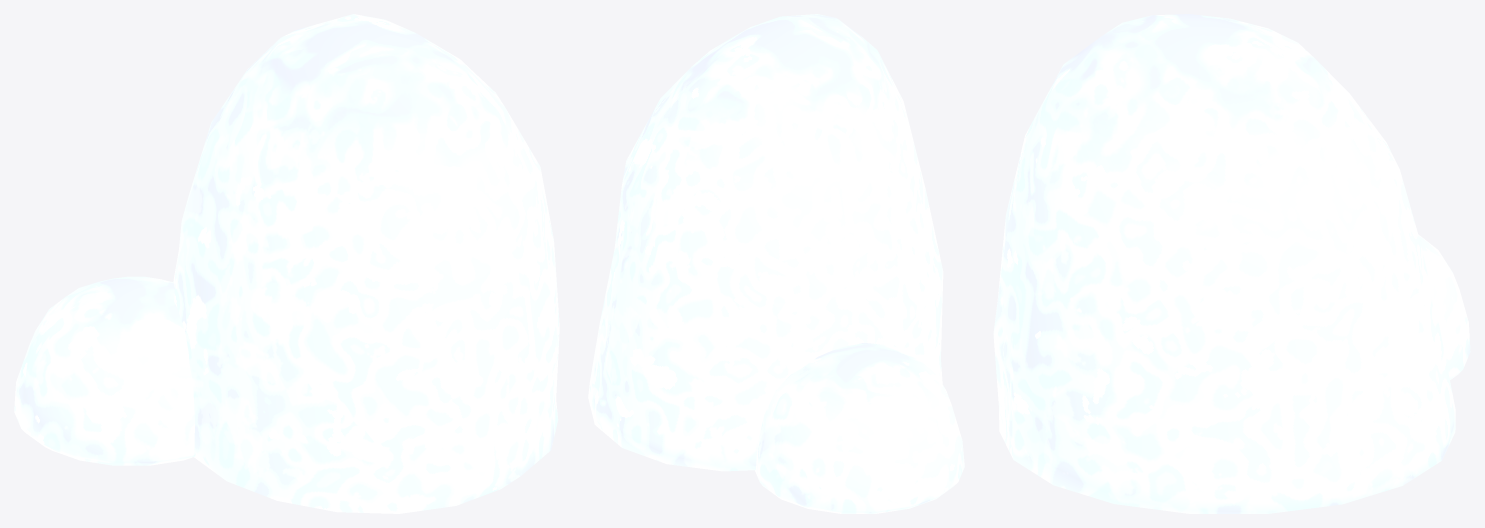
The model's file is 087_round_stones.glb.
The picture shows the model from 3 angles, left to right: view 1: azimuth 30°, elevation 25°; view 2: azimuth 150°, elevation 25°; view 3: azimuth 270°, elevation 25°; orthographic projection. The views are drawn at different scales.
Visible parts, largest first — view 1: stone_1, stone_2; view 2: stone_1, stone_2; view 3: stone_1, stone_2.
Part boxes in pixels (left/top/right/bottom): stone_1: left=173, top=14, right=559, bottom=513; stone_2: left=14, top=276, right=195, bottom=465; stone_1: left=588, top=14, right=943, bottom=471; stone_2: left=755, top=343, right=964, bottom=513; stone_1: left=993, top=14, right=1455, bottom=513; stone_2: left=1418, top=234, right=1470, bottom=379.
Size of the model in its own units: 0.7498 by 0.6724 by 0.7103.
Materials: 1 (1 with a texture image).
